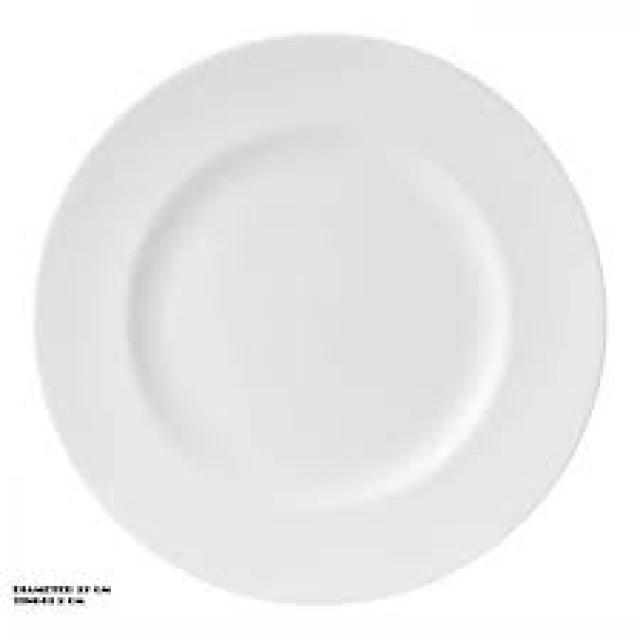dish: (40, 13, 622, 620)
